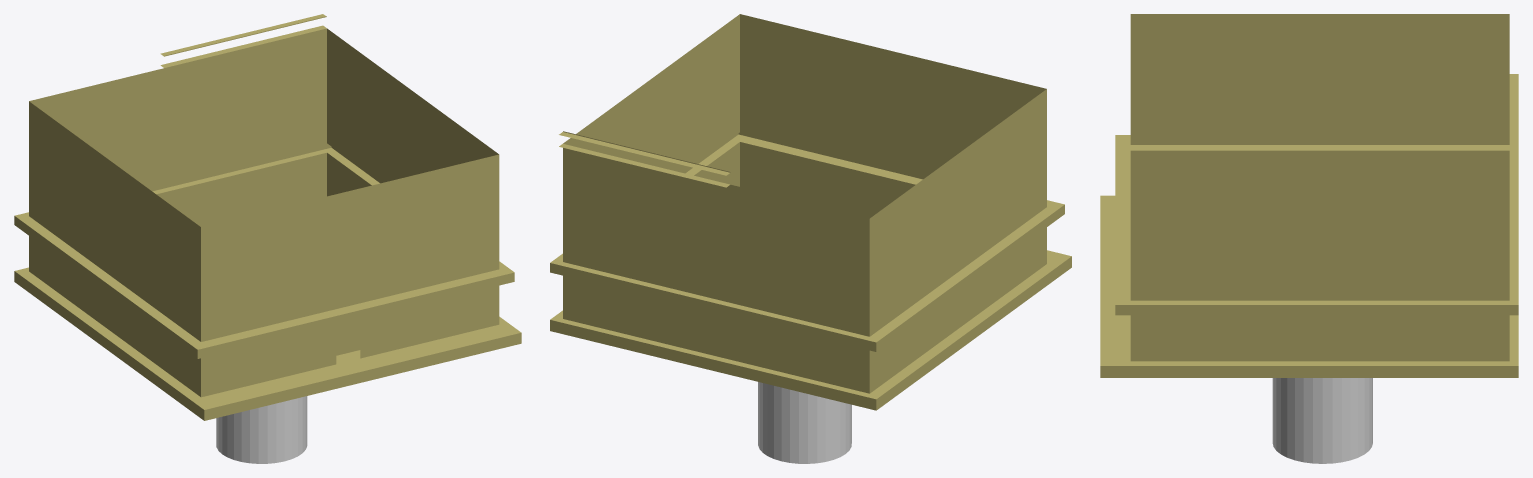
File: rucheBas.fbx
3 views of the same model, side by side, from view 1: azimuth 30°, elevation 25°; view 2: azimuth 150°, elevation 25°; view 3: azimuth 270°, elevation 25° (orthographic). The views are drawn at different scales.
Visible parts, largest first — view 1: Cube, Cylindre; view 2: Cube, Cylindre; view 3: Cube, Cylindre.
Boxes of the visible parts, x1,y1,x2,y2 form: Cube: (14, 14, 521, 420); Cylindre: (216, 396, 307, 463); Cube: (550, 14, 1071, 410); Cylindre: (758, 382, 851, 463); Cube: (1100, 14, 1518, 377); Cylindre: (1272, 378, 1372, 463).
Size of the model in its own units: 213 by 211 by 221.
